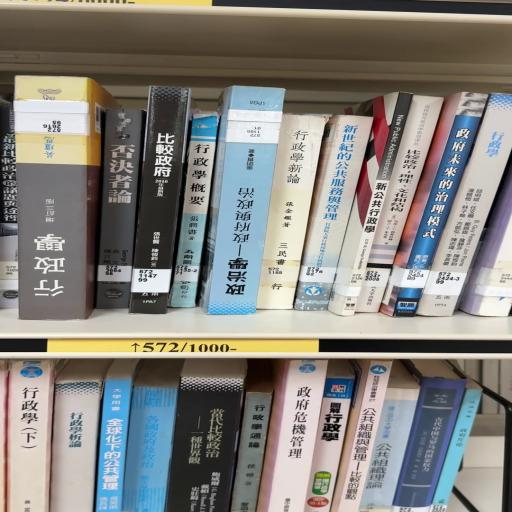reverse: (12, 76, 117, 320), (201, 87, 285, 315)
